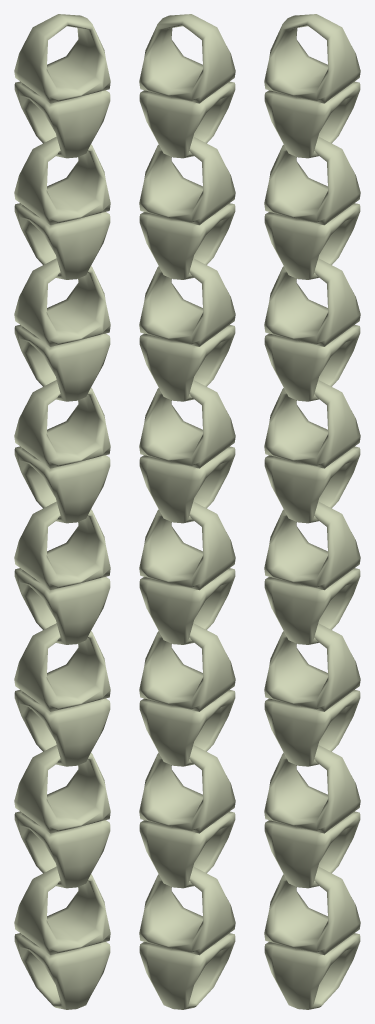
File: chain.obj
The picture shows the model from 3 angles, left to right: view 1: azimuth 30°, elevation 25°; view 2: azimuth 150°, elevation 25°; view 3: azimuth 330°, elevation 25°; orthographic projection.
Visible parts, largest first — view 1: Cube1; view 2: Cube1; view 3: Cube1.
Part boxes in pixels (x1=…): Cube1: x1=14, y1=14, x2=110, y2=1009; Cube1: x1=139, y1=14, x2=235, y2=1009; Cube1: x1=264, y1=14, x2=360, y2=1009.
Size of the model in its own units: 2 by 28.5 by 2.
